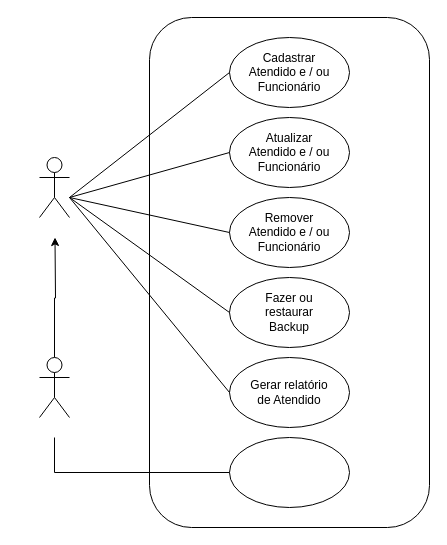
Some shapes in this 447 by 545 pixel diagram are drawn without their labels. Each missing label, with the box of its shape:
Administrador: (38, 156, 70, 218)
Funcionário: (38, 356, 70, 418)
Pesquisar Atendido: (228, 436, 350, 508)
